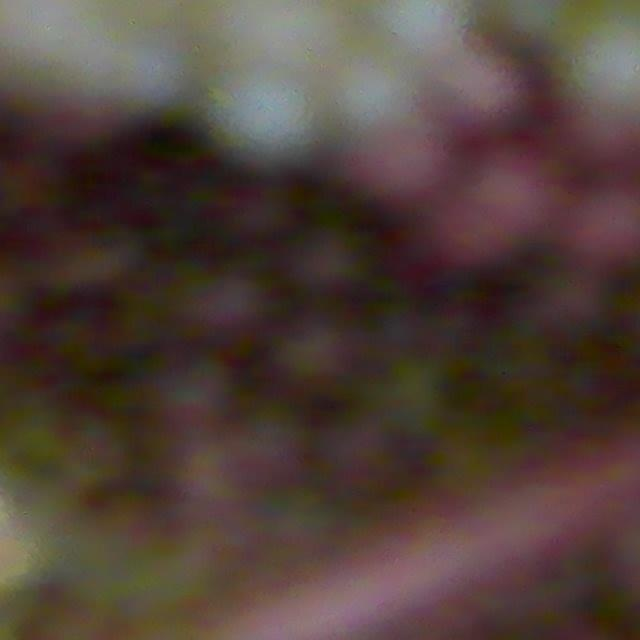SeaGrape: (427, 154, 548, 260), (217, 70, 309, 162), (578, 186, 640, 271)
